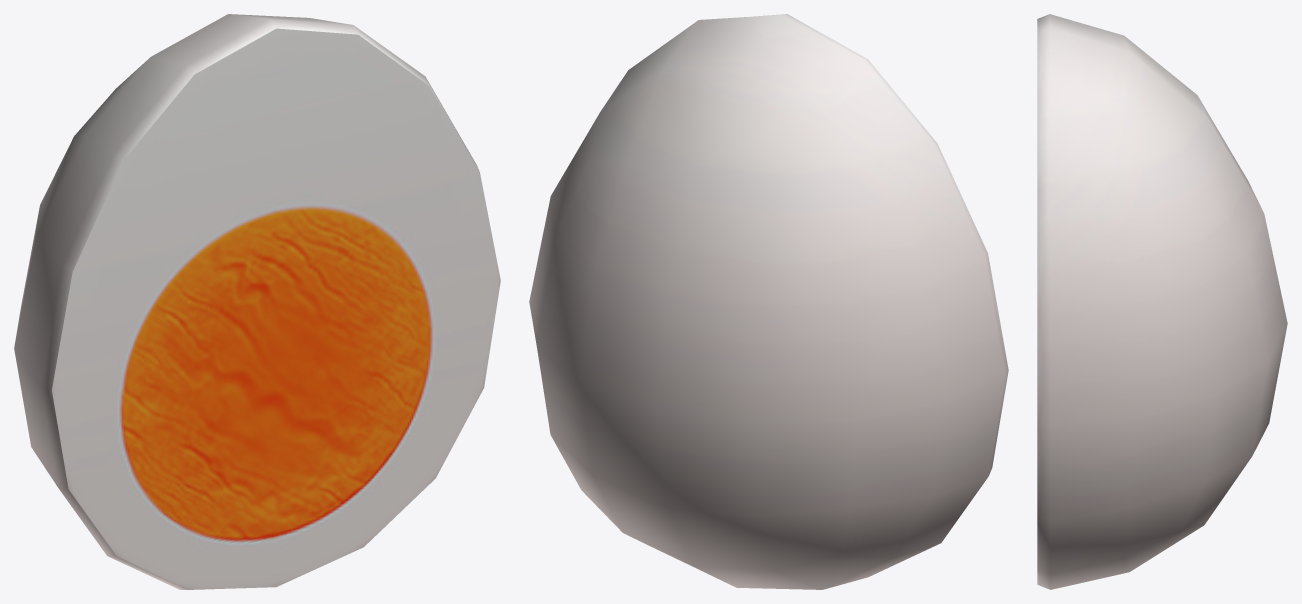
File: HalfBoiledEgg_1.fbx
3 renders of one model, left to right at view 1: azimuth 30°, elevation 25°; view 2: azimuth 150°, elevation 25°; view 3: azimuth 270°, elevation 25°, orthographic. The views are drawn at different scales.
Visible parts, largest first — view 1: HalfBoiledEgg_1; view 2: HalfBoiledEgg_1; view 3: HalfBoiledEgg_1.
Part boxes in pixels (x1,y1,x2,y2): HalfBoiledEgg_1: [14, 14, 500, 589]; HalfBoiledEgg_1: [529, 14, 1008, 589]; HalfBoiledEgg_1: [1037, 14, 1287, 589].
Size of the model in its own units: 26.28 by 31.25 by 13.18.
1 material, 1 textured.
